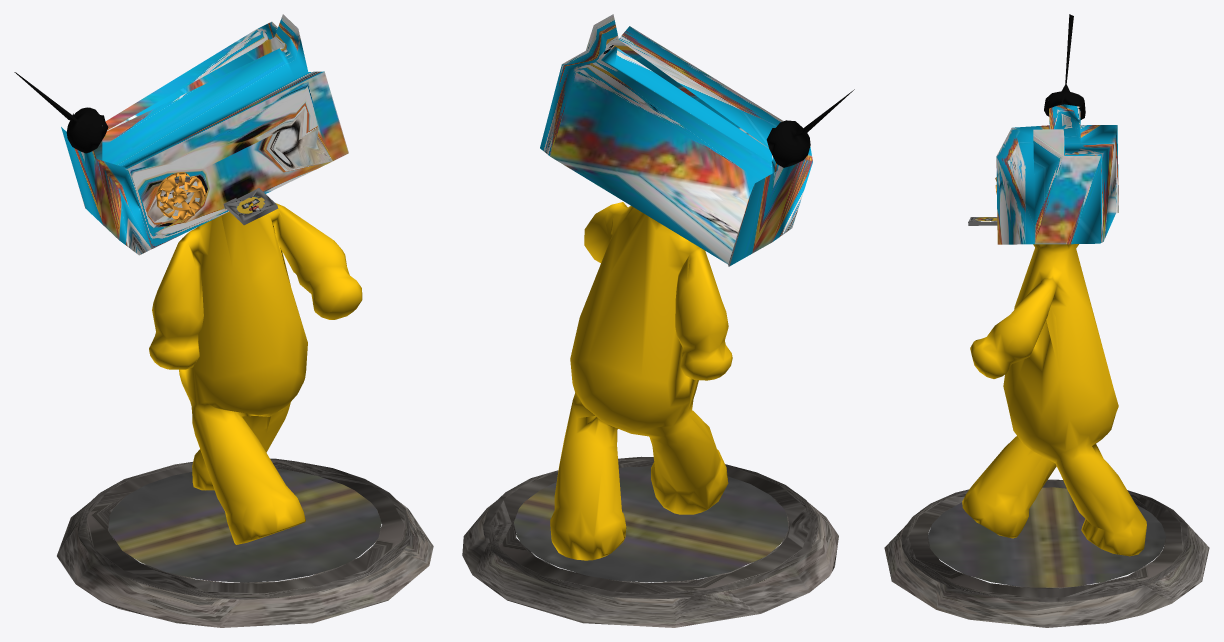
The picture shows the model from 3 angles, left to right: view 1: azimuth 30°, elevation 25°; view 2: azimuth 150°, elevation 25°; view 3: azimuth 270°, elevation 25°; orthographic projection. The views are drawn at different scales.
Bounding box in the file's own units: 1.68 × 2.2 × 1.43.
10 materials, 5 textured.
